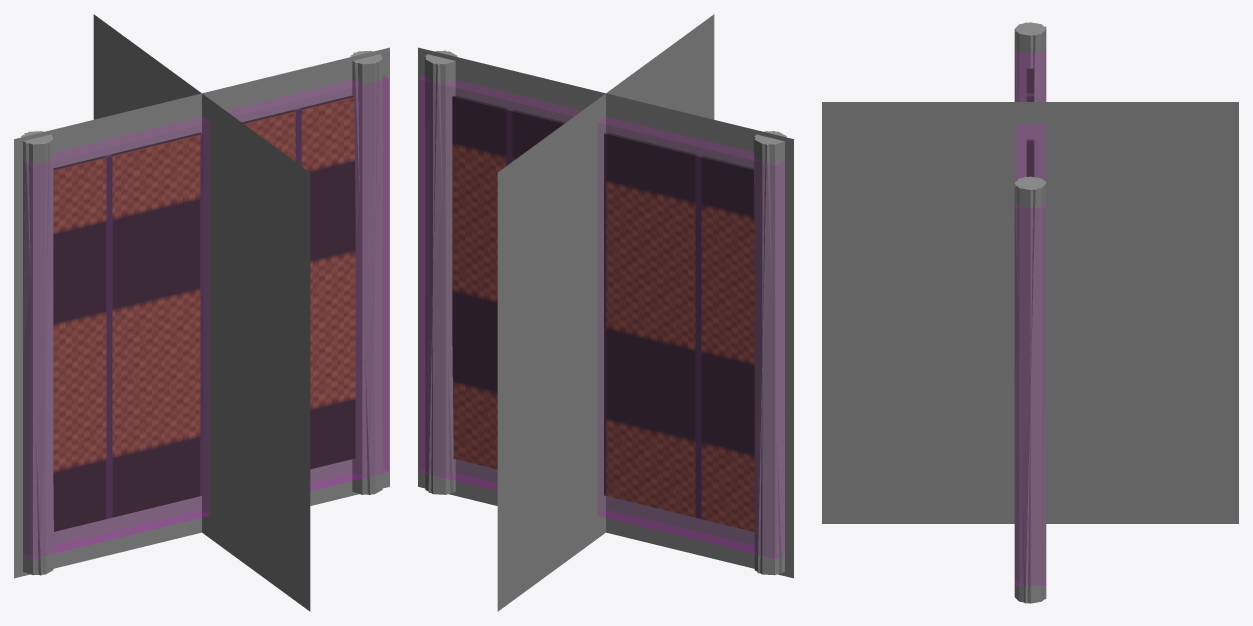
The model's file is snowfence_wood_1m.dae.
3 views of the same model, side by side, from view 1: azimuth 30°, elevation 25°; view 2: azimuth 150°, elevation 25°; view 3: azimuth 270°, elevation 25° (orthographic). The views are drawn at different scales.
Visible parts, largest first — view 1: Colmesh_panel-1, snowfence_wood_1m_a800, snowfence_wood_1m_a50, snowfence_wood_1m_a200; view 2: Colmesh_panel-1, snowfence_wood_1m_a800, snowfence_wood_1m_a50, snowfence_wood_1m_a200; view 3: snowfence_wood_1m_a50, snowfence_wood_1m_a800, Colmesh_panel-1, snowfence_wood_1m_a200.
Boxes of the visible parts, x1,y1,x2,y2 form: Colmesh_panel-1: (23,75,388,558); snowfence_wood_1m_a800: (21,50,382,575); snowfence_wood_1m_a50: (14,14,389,611); snowfence_wood_1m_a200: (23,52,383,575); Colmesh_panel-1: (419,75,784,558); snowfence_wood_1m_a800: (425,50,786,575); snowfence_wood_1m_a50: (418,14,793,611); snowfence_wood_1m_a200: (424,50,784,573); snowfence_wood_1m_a50: (822,102,1238,523); snowfence_wood_1m_a800: (1014,22,1046,603); Colmesh_panel-1: (1015,49,1045,585); snowfence_wood_1m_a200: (1014,22,1046,603).
Bounding box in the file's own units: 1.05 × 1.05 × 1.17.
Materials: 3 (1 with a texture image).
